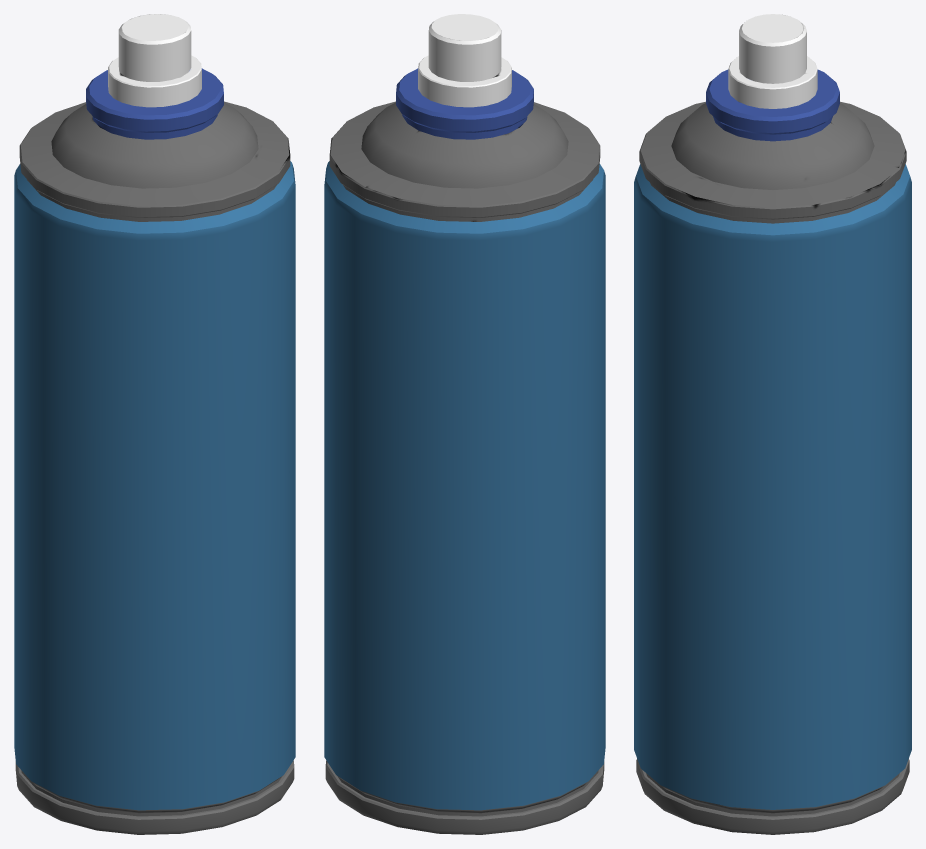
File: Spray_can_01.fbx
The picture shows the model from 3 angles, left to right: view 1: azimuth 30°, elevation 25°; view 2: azimuth 150°, elevation 25°; view 3: azimuth 270°, elevation 25°; orthographic projection.
Visible parts, largest first — view 1: pCylinder2; view 2: pCylinder2; view 3: pCylinder2.
Part boxes in pixels (bbox=[...]): pCylinder2: bbox=[14, 14, 295, 834]; pCylinder2: bbox=[324, 14, 605, 834]; pCylinder2: bbox=[634, 14, 911, 834].
Bounding box in the file's own units: 16.17 × 47.07 × 15.82.
Materials: 1 (1 with a texture image).
